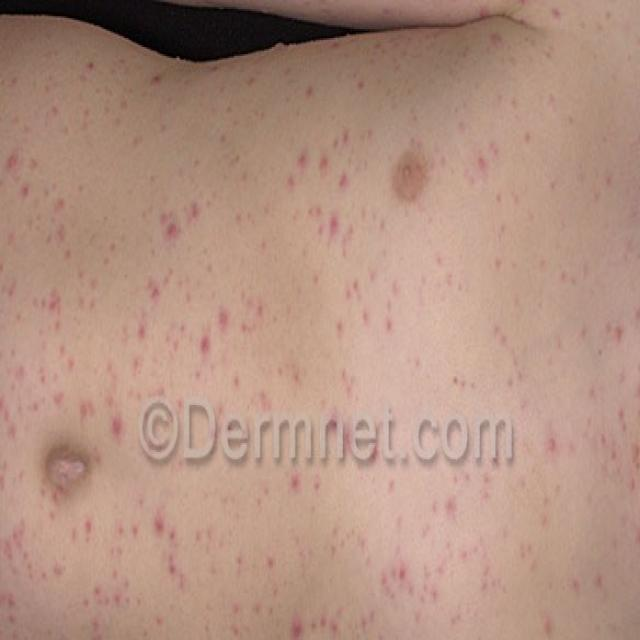Acne: (565, 257, 640, 405), (290, 127, 366, 247), (0, 259, 67, 346), (0, 101, 35, 226), (147, 193, 213, 255), (144, 505, 187, 593)
